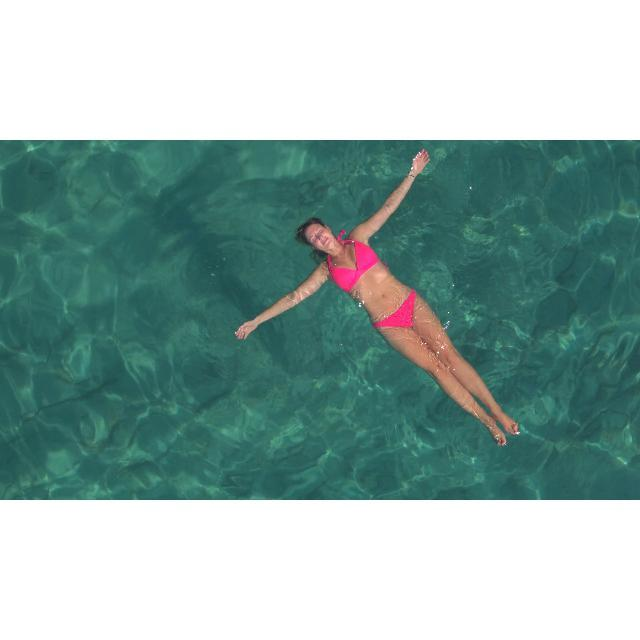human: (234, 149, 521, 448)
